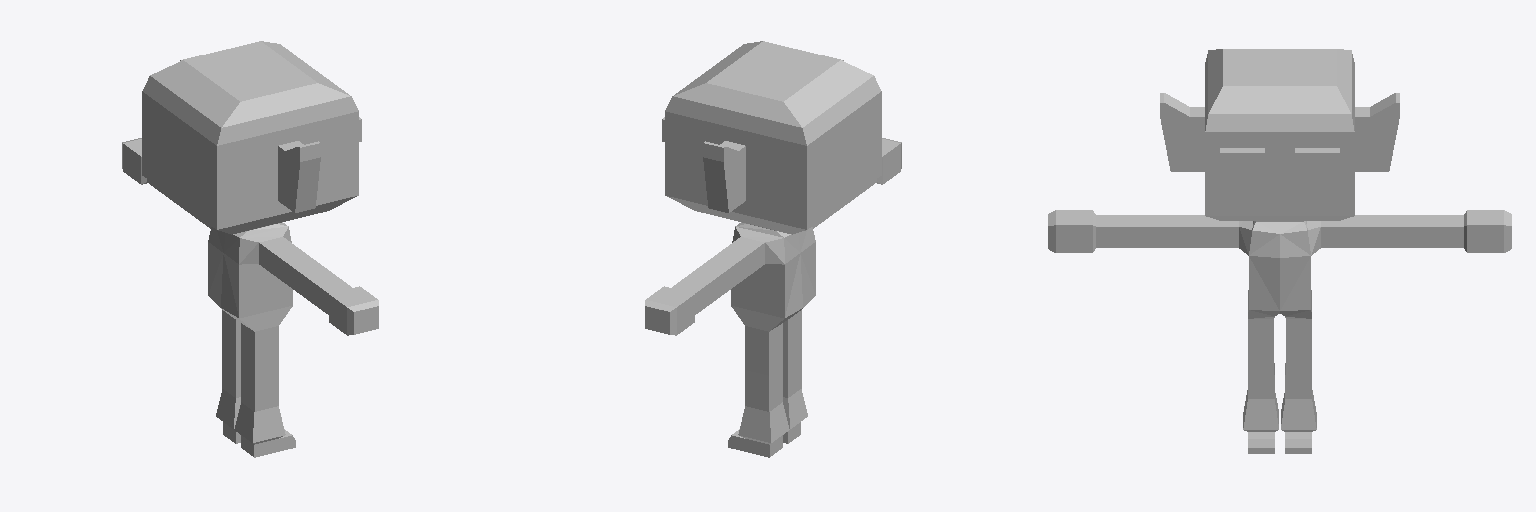
File: Ludzik4-textured-1-parts.obj
The picture shows the model from 3 angles: view 1: azimuth 30°, elevation 25°; view 2: azimuth 150°, elevation 25°; view 3: azimuth 270°, elevation 25°; orthographic projection.
Parts seen in each view (by area): view 1: Postac_Cube, Reka2_Cube.002; view 2: Postac_Cube, Reka2_Cube.002, Reka_Cube.001; view 3: Postac_Cube, Reka2_Cube.002, Reka_Cube.001.
Boxes of the visible parts, x1,y1,x2,y2 form: Postac_Cube: [142, 41, 378, 457]; Reka2_Cube.002: [122, 138, 176, 203]; Postac_Cube: [662, 41, 901, 457]; Reka2_Cube.002: [645, 267, 722, 335]; Reka_Cube.001: [700, 237, 764, 294]; Postac_Cube: [1048, 49, 1399, 453]; Reka2_Cube.002: [1404, 210, 1511, 252]; Reka_Cube.001: [1321, 215, 1403, 247].
Bounding box in the file's own units: 5.65 × 13.12 × 14.83.